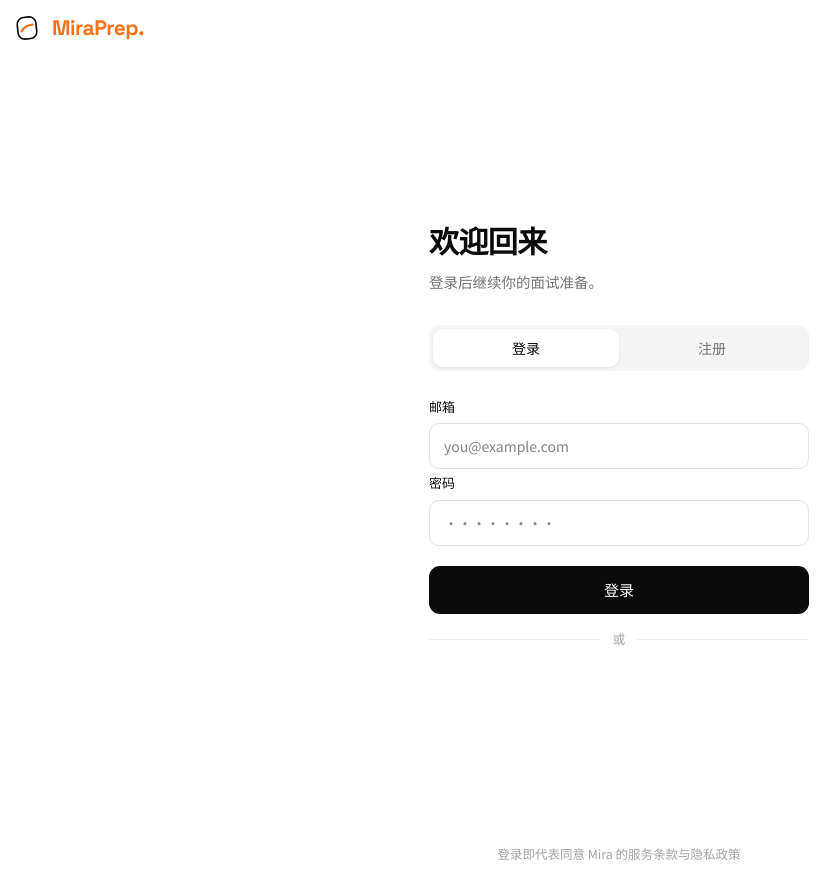
Test: AuthPage › shows an inline Chinese error instead of submitting an invalid login form
Click the button "登录" below "密码" at [619, 590], box [429,566,809,614]
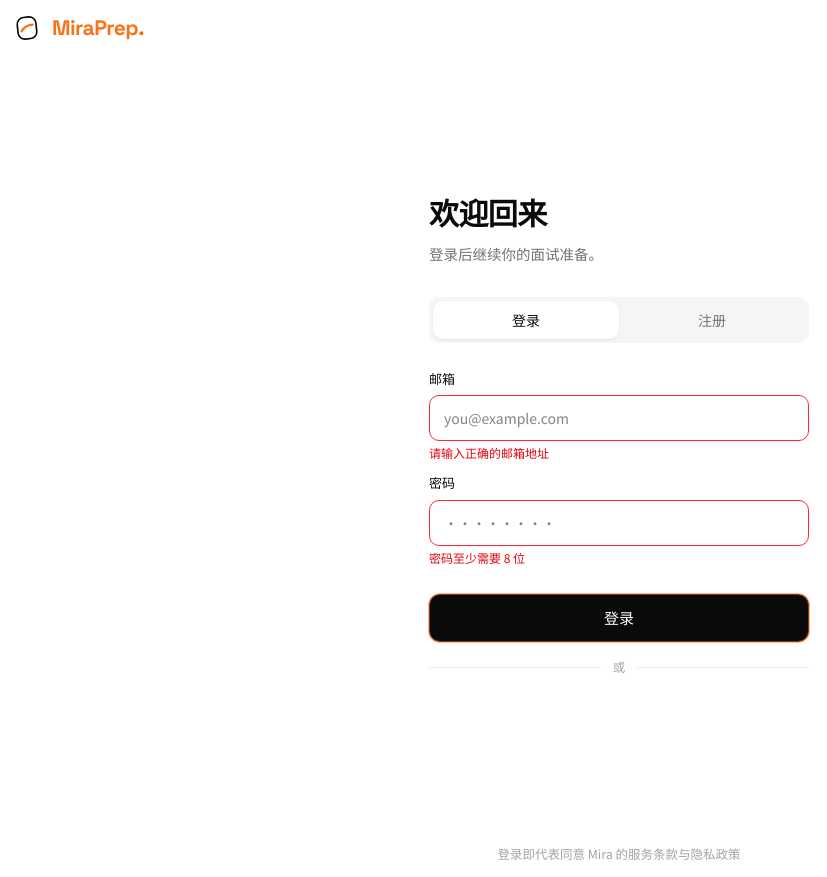
expect the text "请输入正确的邮箱地址" is shown: met, box [429,444,549,461]
